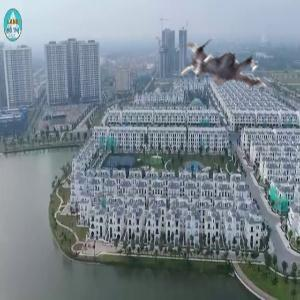drone: (170, 23, 276, 129)
